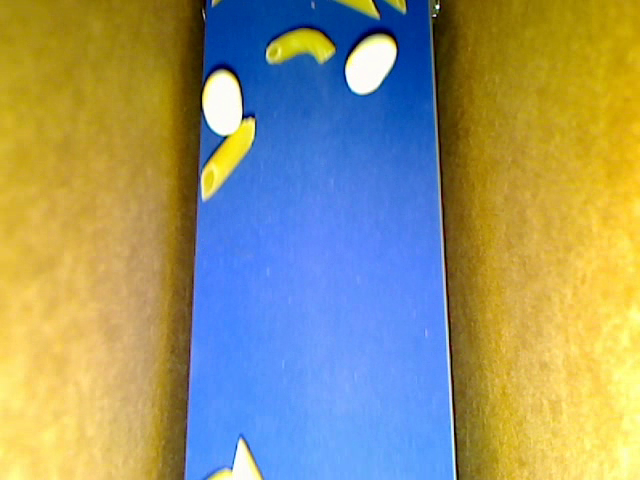elbow: (265, 28, 336, 63)
penne: (199, 115, 255, 200)
